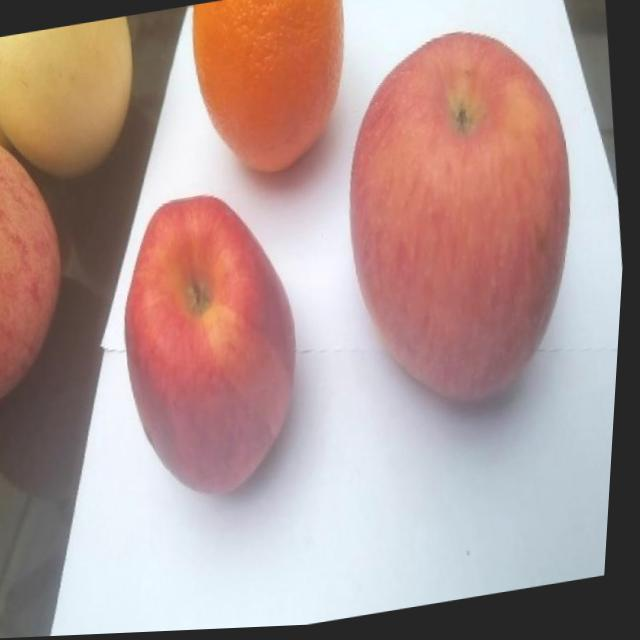Apple: (321, 18, 605, 426), (103, 184, 325, 513), (0, 117, 87, 409)
Orange: (181, 0, 363, 187)
